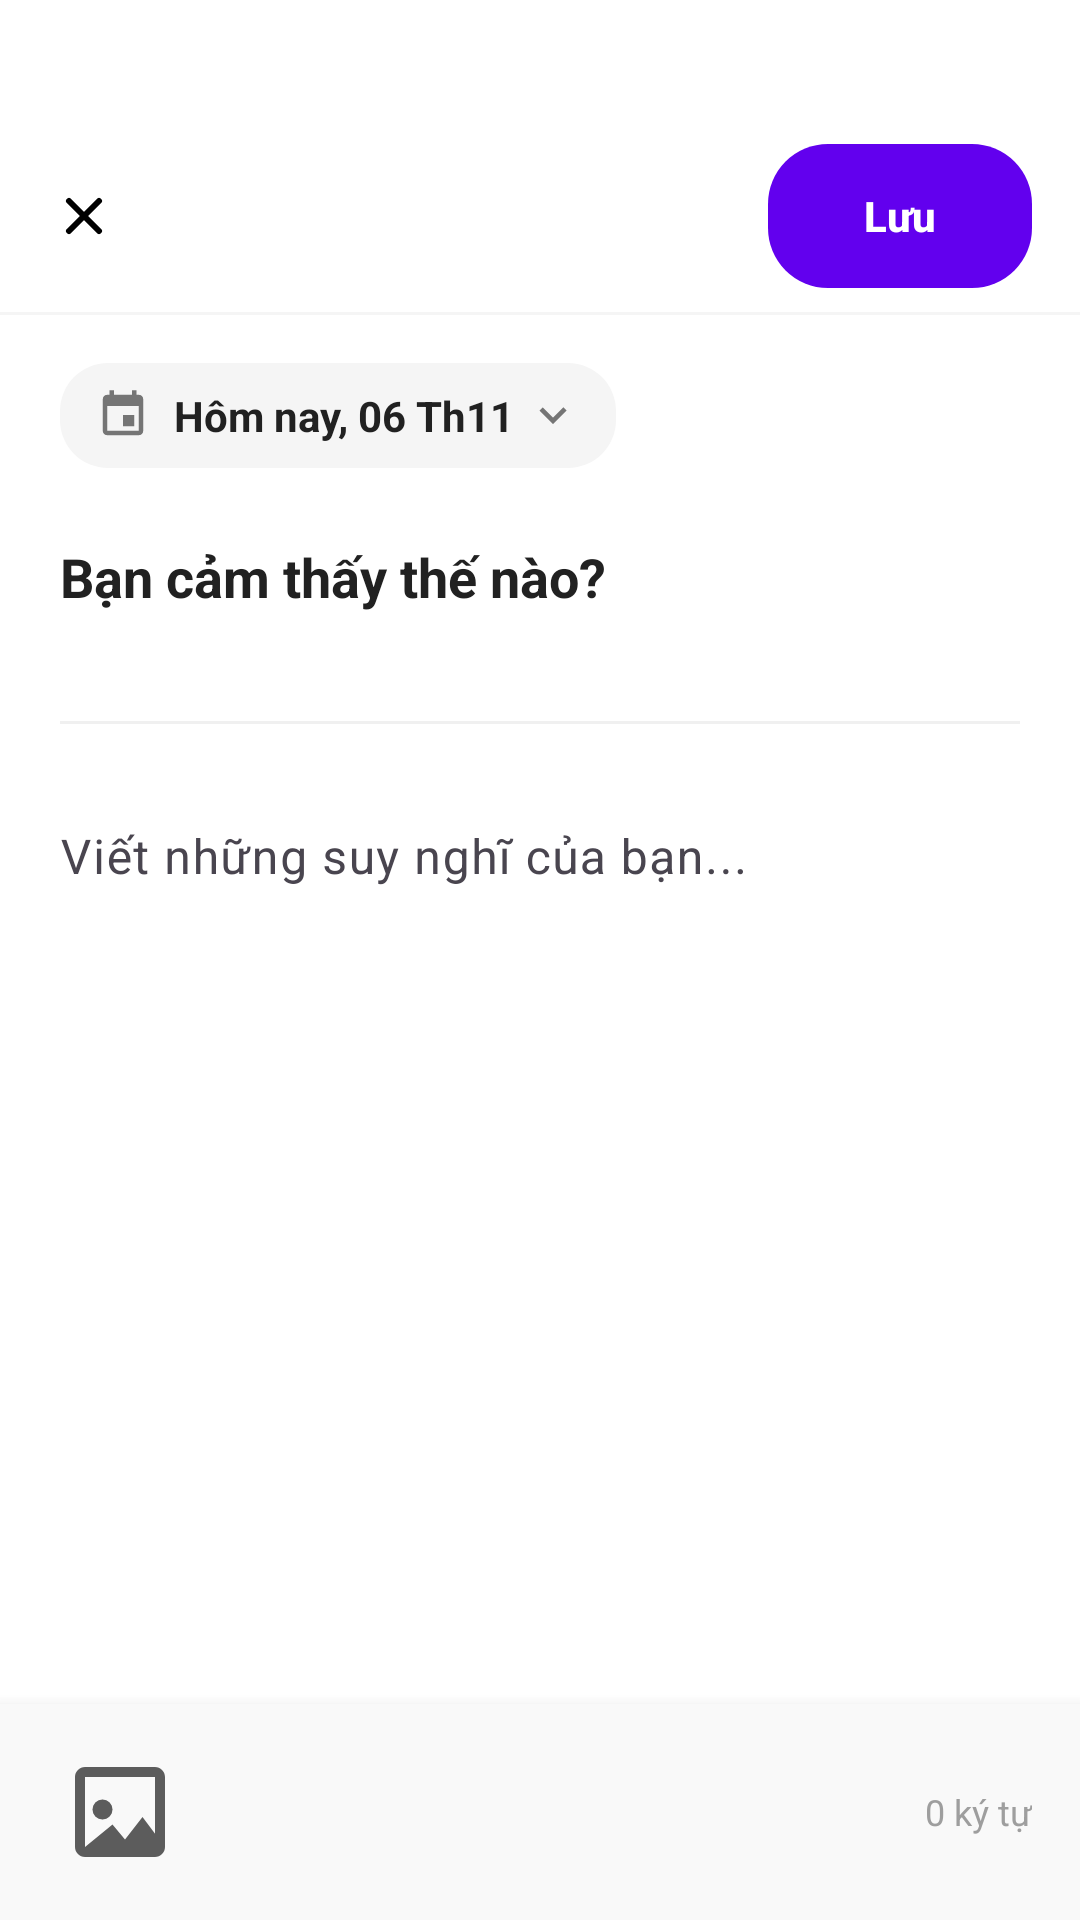

Icon click points for this 1080px x 1920px phone screenshot, format (x,y):
calendar: (123,413)
